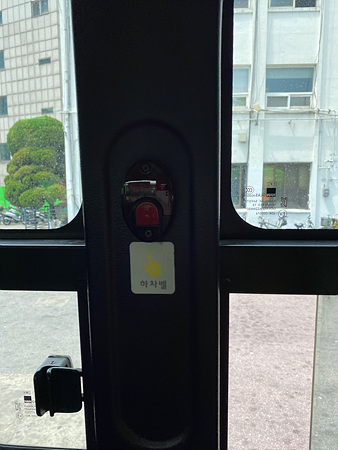bell: (123, 177, 176, 241)
